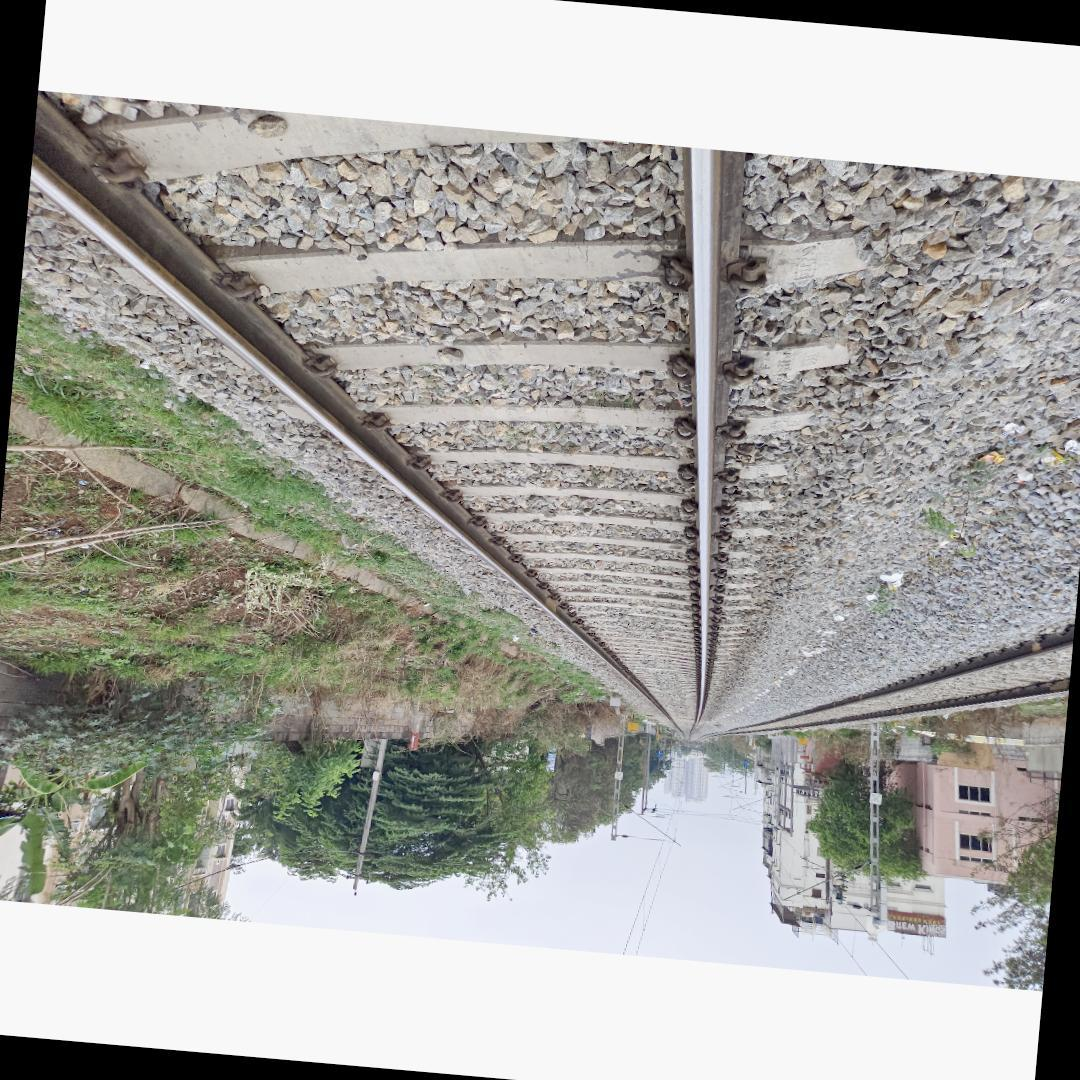standing: (0, 92, 1080, 985)
track: (30, 91, 735, 753)
